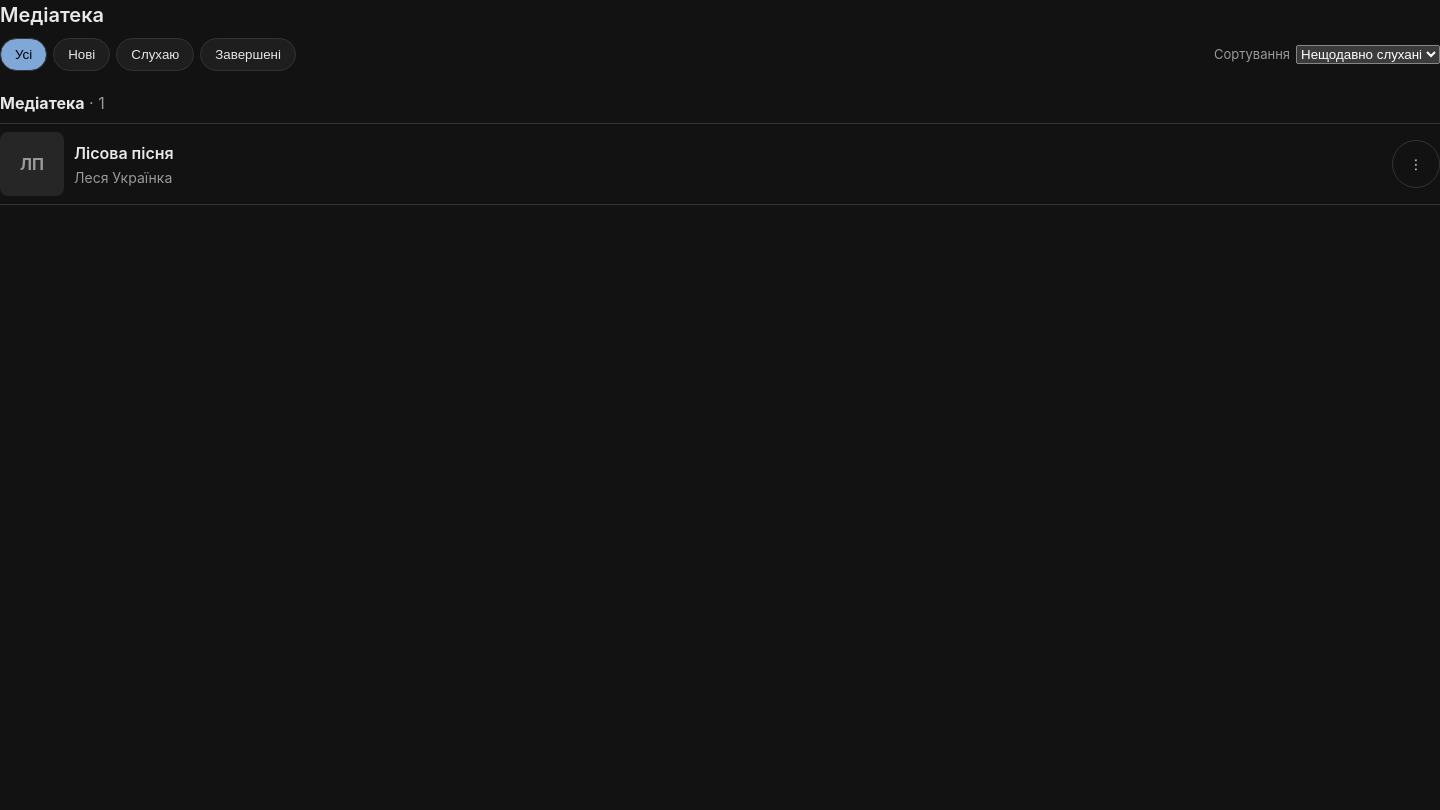
Test: Library › cancelling the confirmation deletes nothing and returns focus to the row
Expected: the text "Лісова пісня" is shown, [74,140,174,164]
Click the button named "Дії з книгою: Лісова пісня" at x=1416, y=164, box [1392,140,1439,188]
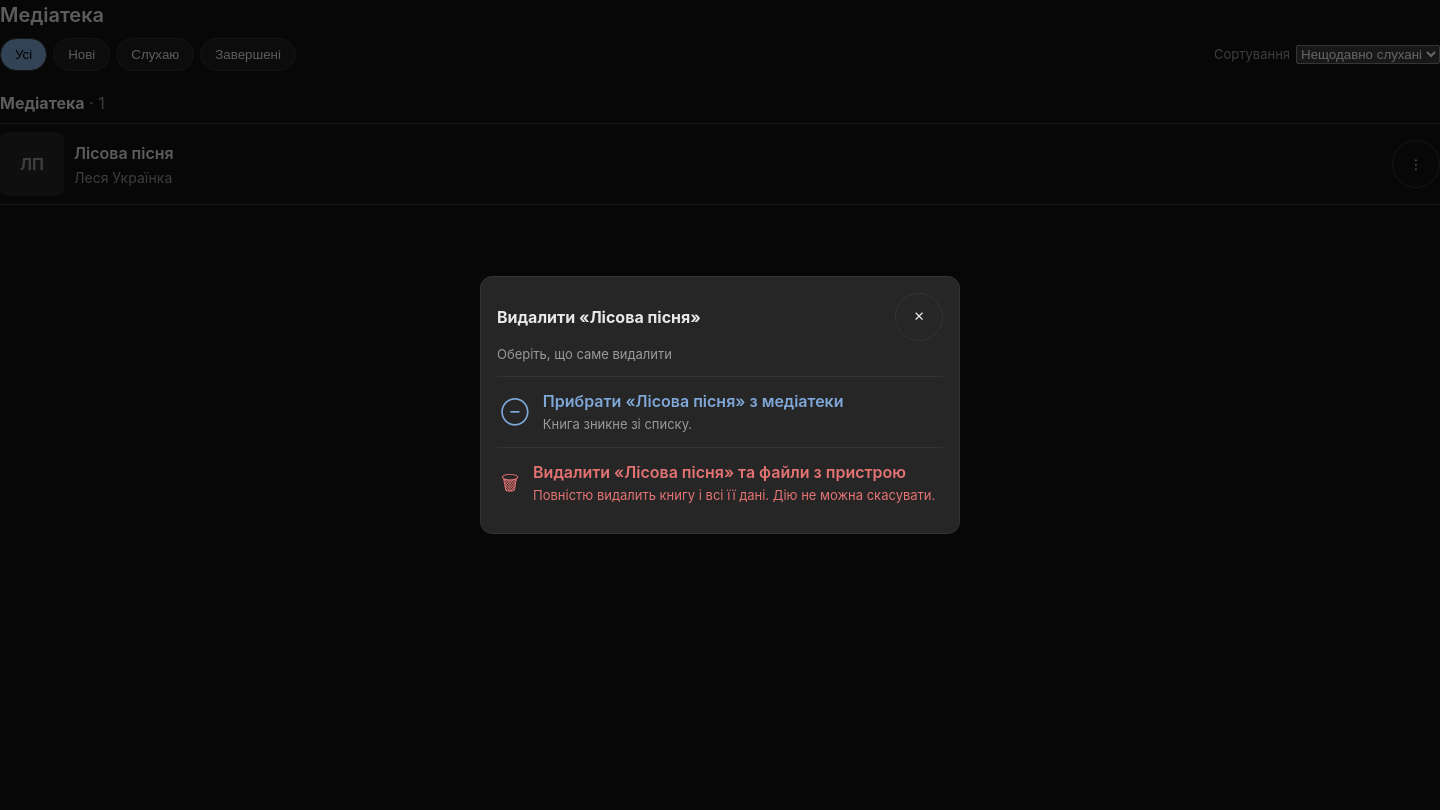
Now the heading "Видалити «Лісова пісня»" is shown, box [497,305,701,329]
Click the button "Видалити «Лісова пісня» та файли з пристрою" at x=720, y=482, box [497,447,943,517]
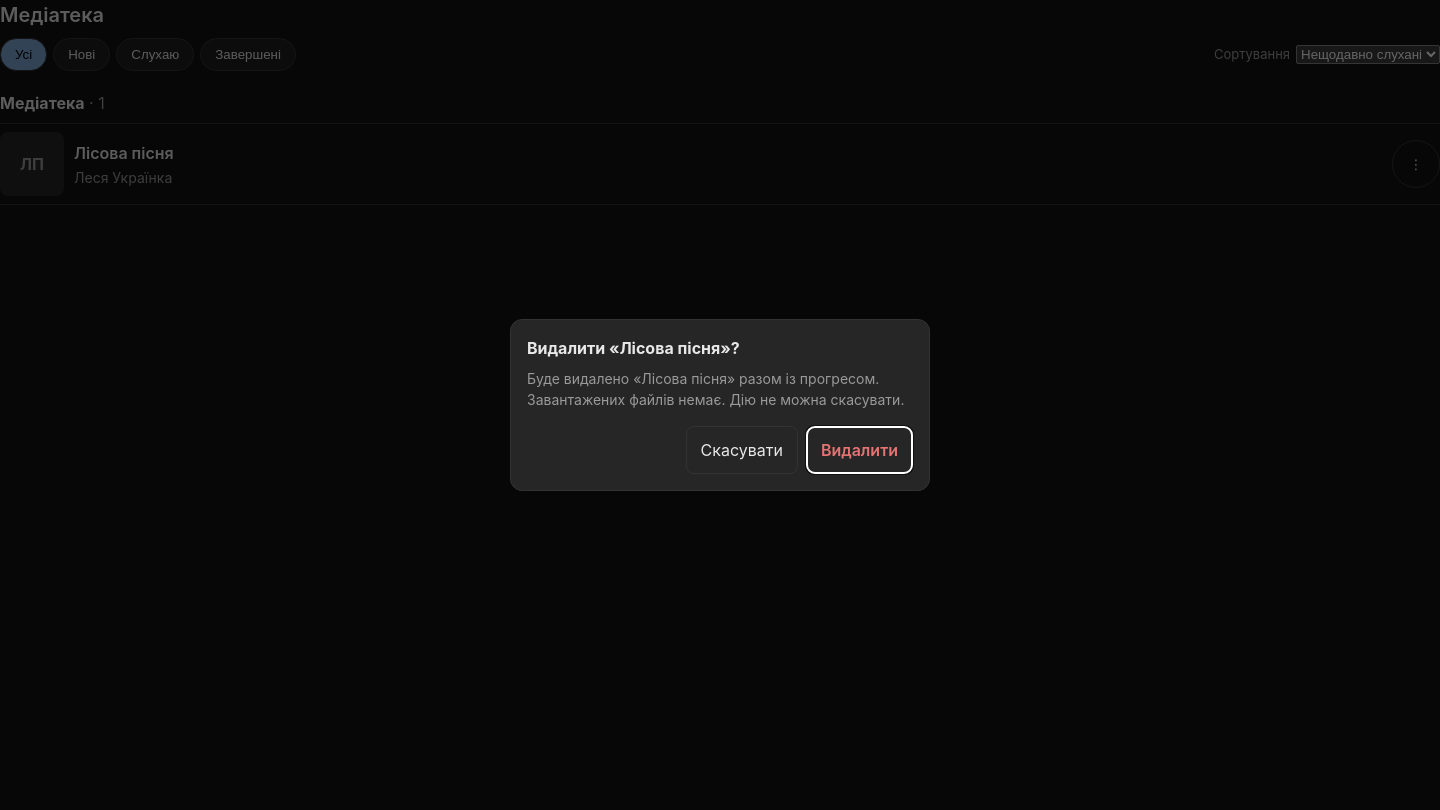
Now the button "Видалити" is shown, box [806,426,913,474]
Click the button "Скасувати" at x=742, y=450, box [686,426,798,474]
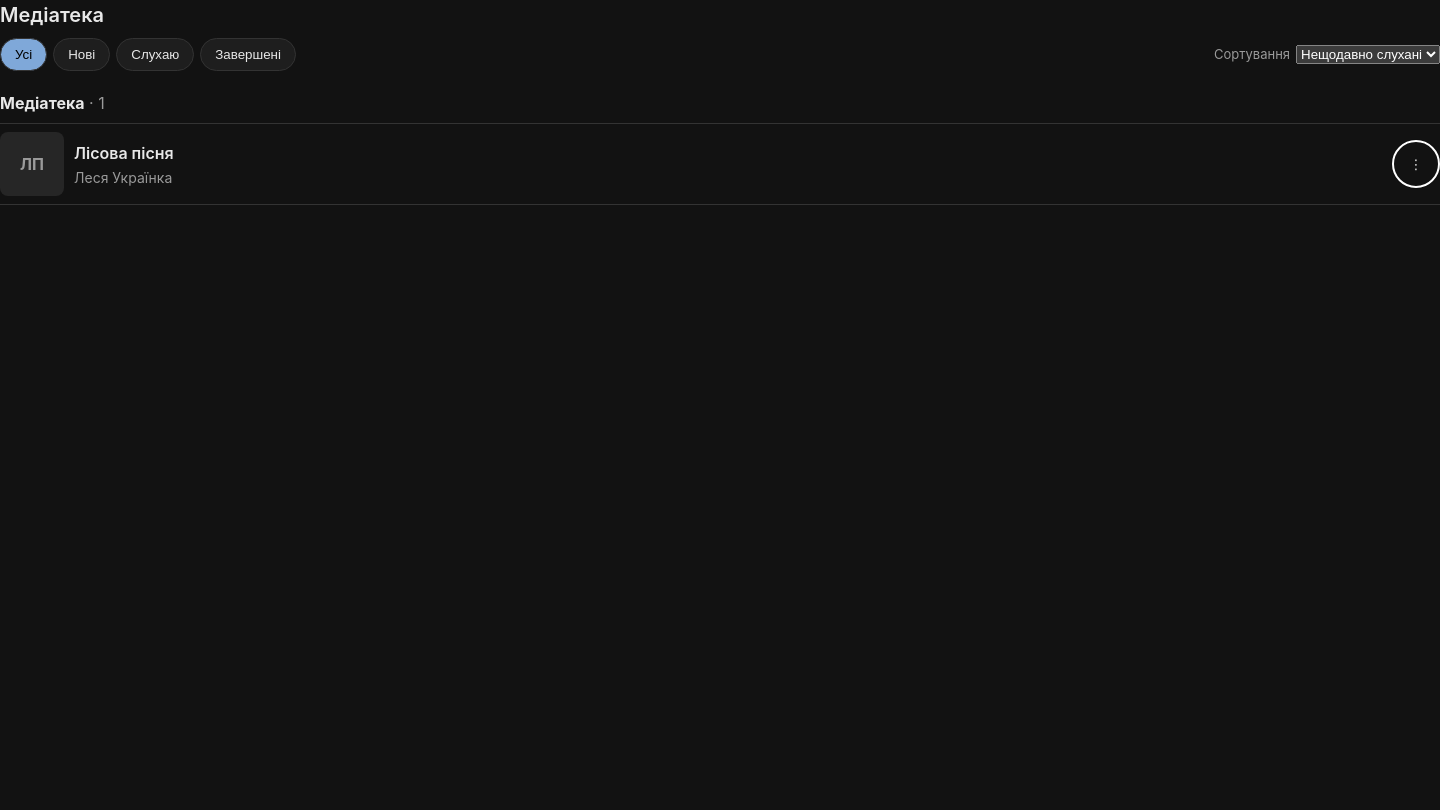
Expected: the text "Лісова пісня" is shown, [74,140,174,164]
Now the dialog is gone
